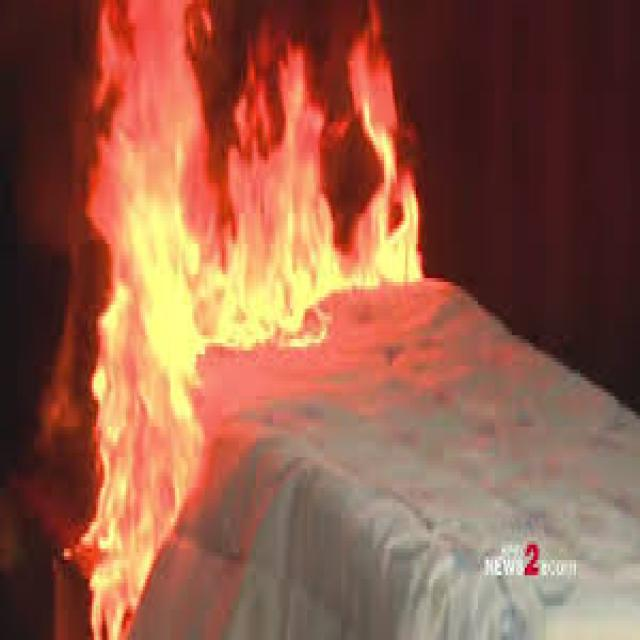fire: (63, 0, 213, 640), (214, 12, 347, 347), (347, 0, 419, 286), (37, 305, 87, 444)
